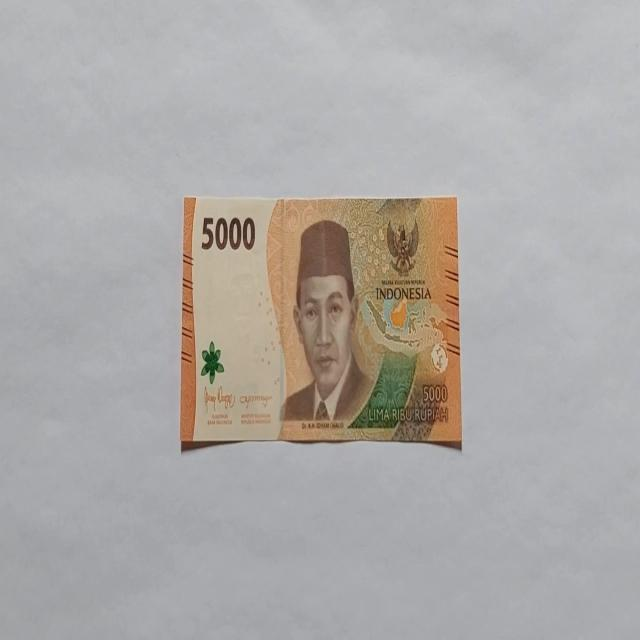lima ribu rupiah: (180, 194, 462, 450), (279, 218, 376, 426)
